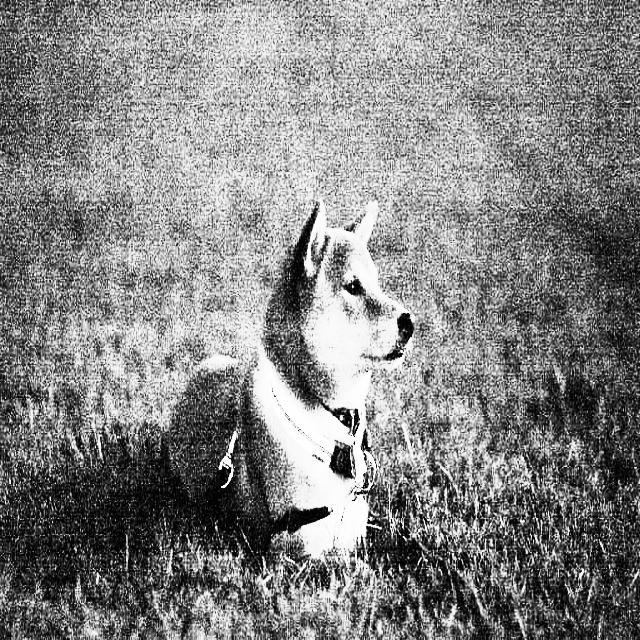Dog: (130, 207, 438, 613)
